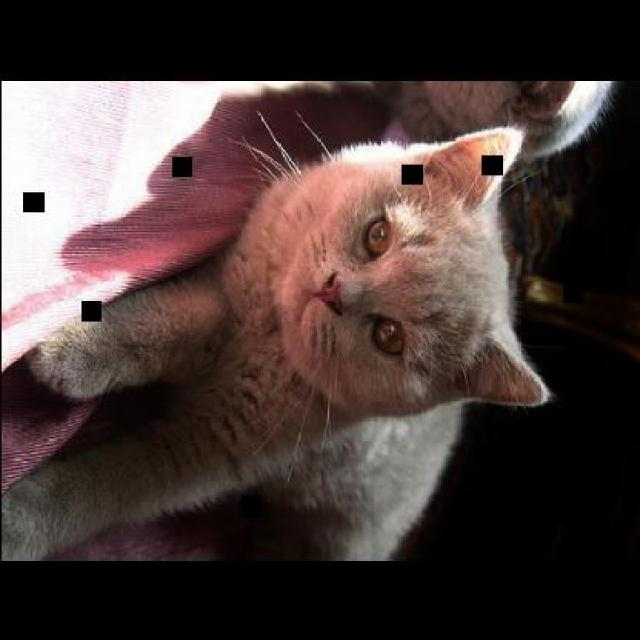unauthorized: (0, 108, 554, 560)
